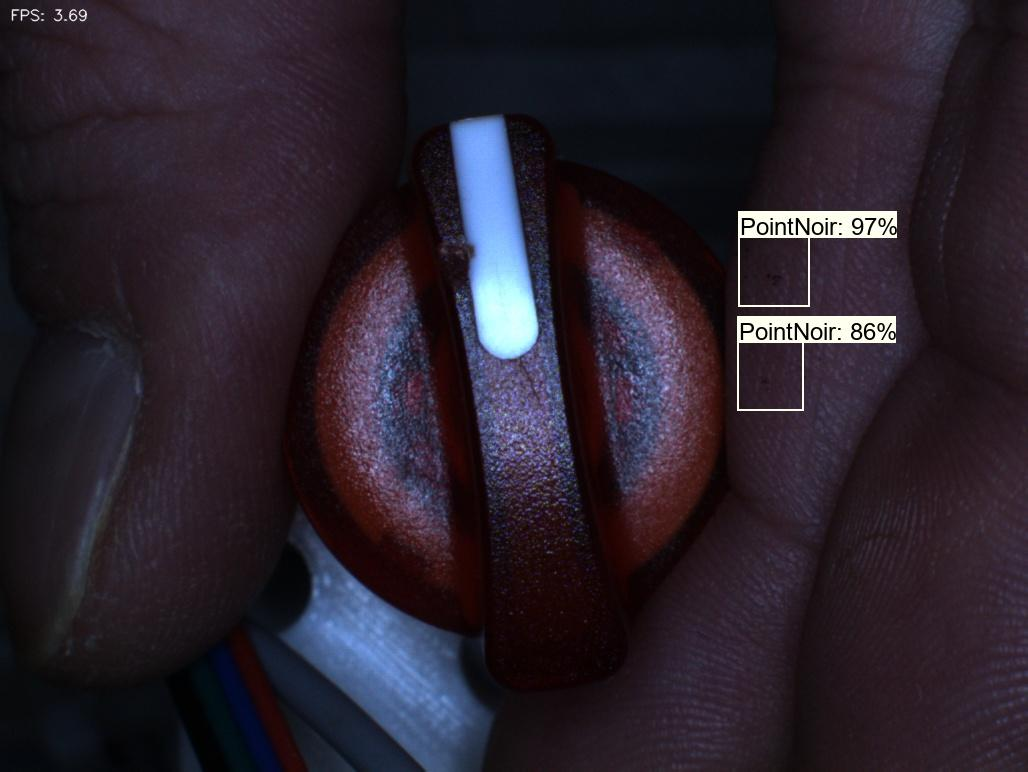Choc: (409, 213, 500, 305)
